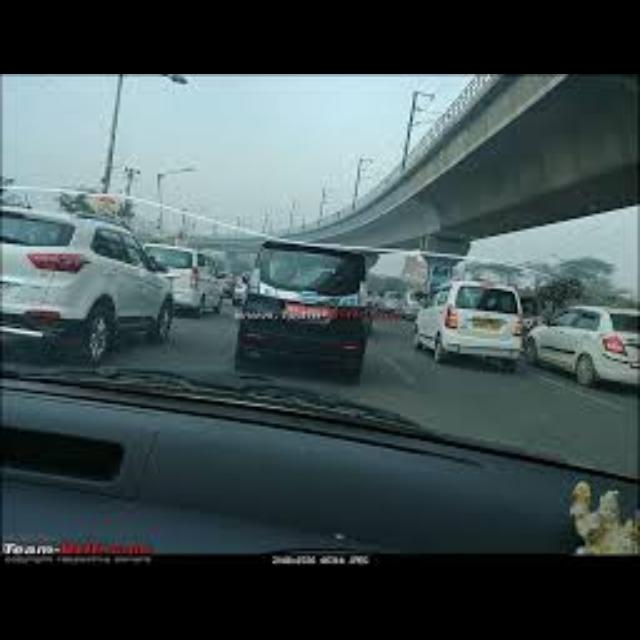number-plate: (283, 305, 333, 320), (470, 317, 502, 332)
vehicles: (2, 204, 170, 354), (232, 239, 372, 377), (523, 304, 638, 389), (413, 279, 523, 367), (145, 244, 223, 314)
